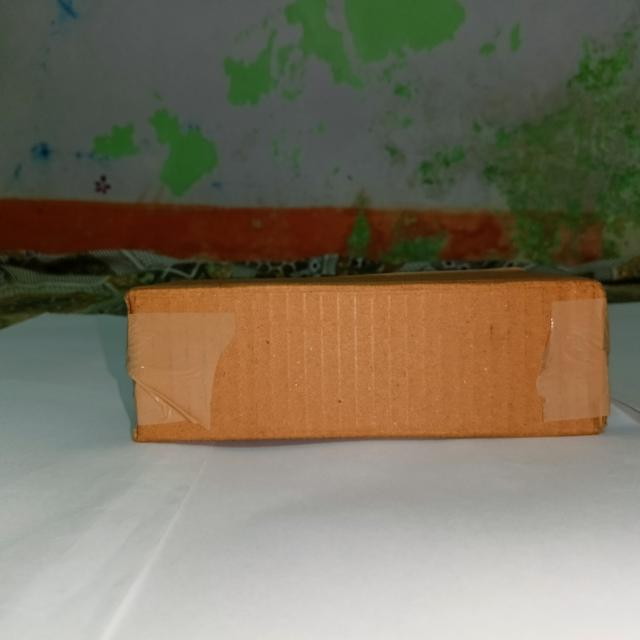box: (128, 284, 603, 438)
